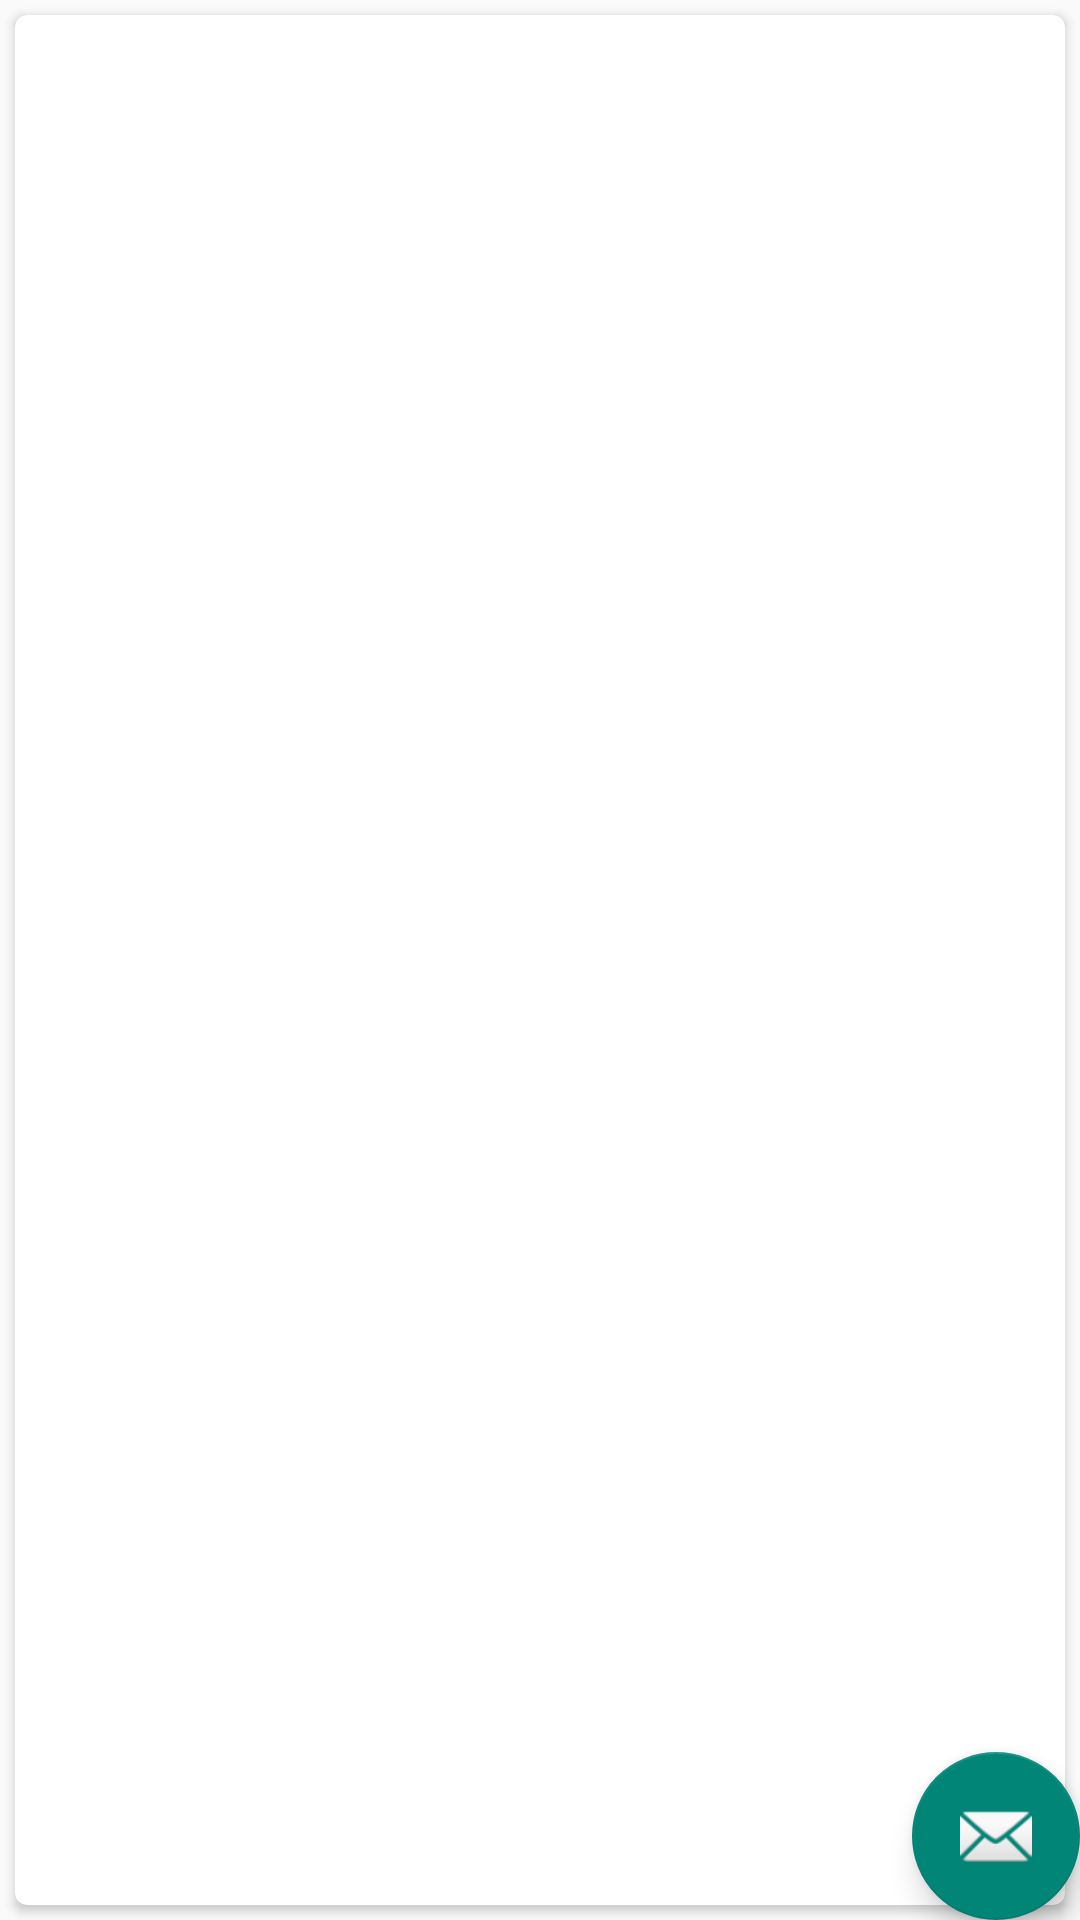

Where icons sit on this 1080px x 1920px app screen, as (x1, y1, x2, y2):
email: (912, 1752, 1080, 1920)
